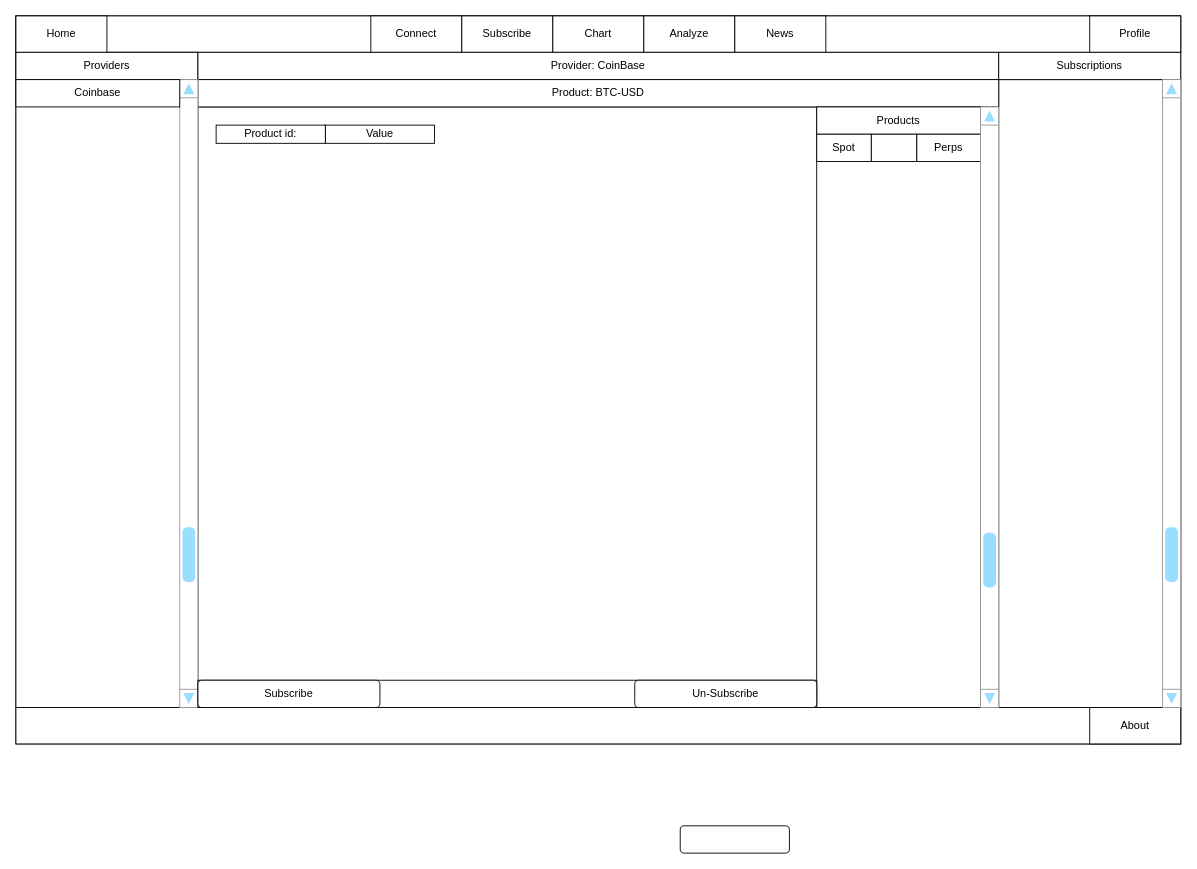
This 1197x869 diagram has some shape labels left out. Each missing label, with the centre of its shape:
"Futures" belongs at (x=893, y=147).
"Load Products" belongs at (x=734, y=839).
